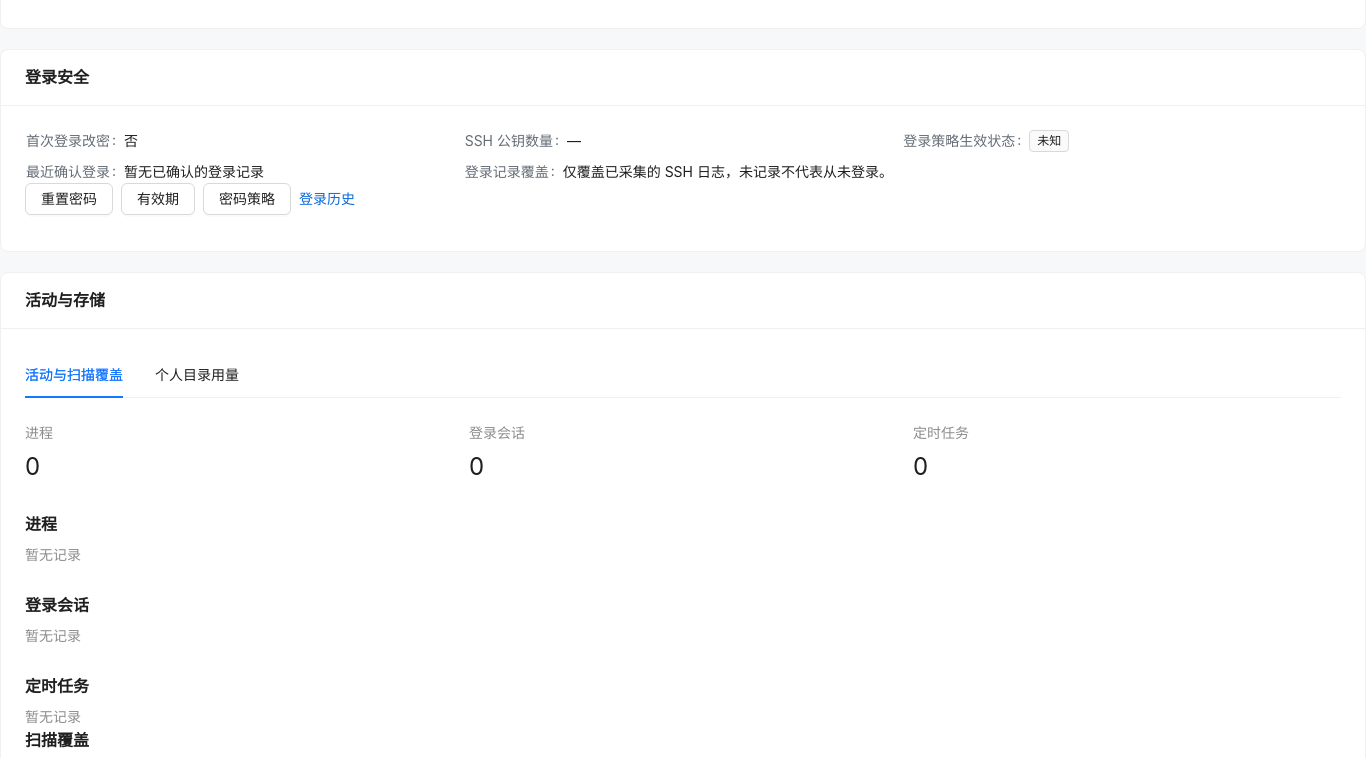
account retains directory usage without quota controls or requests
(page scrolled)
Expected: the text "登录安全" is shown, [25,67,89,87]
Click the tab "个人目录用量" at (197, 375), box [155,364,239,386]
(page scrolled)
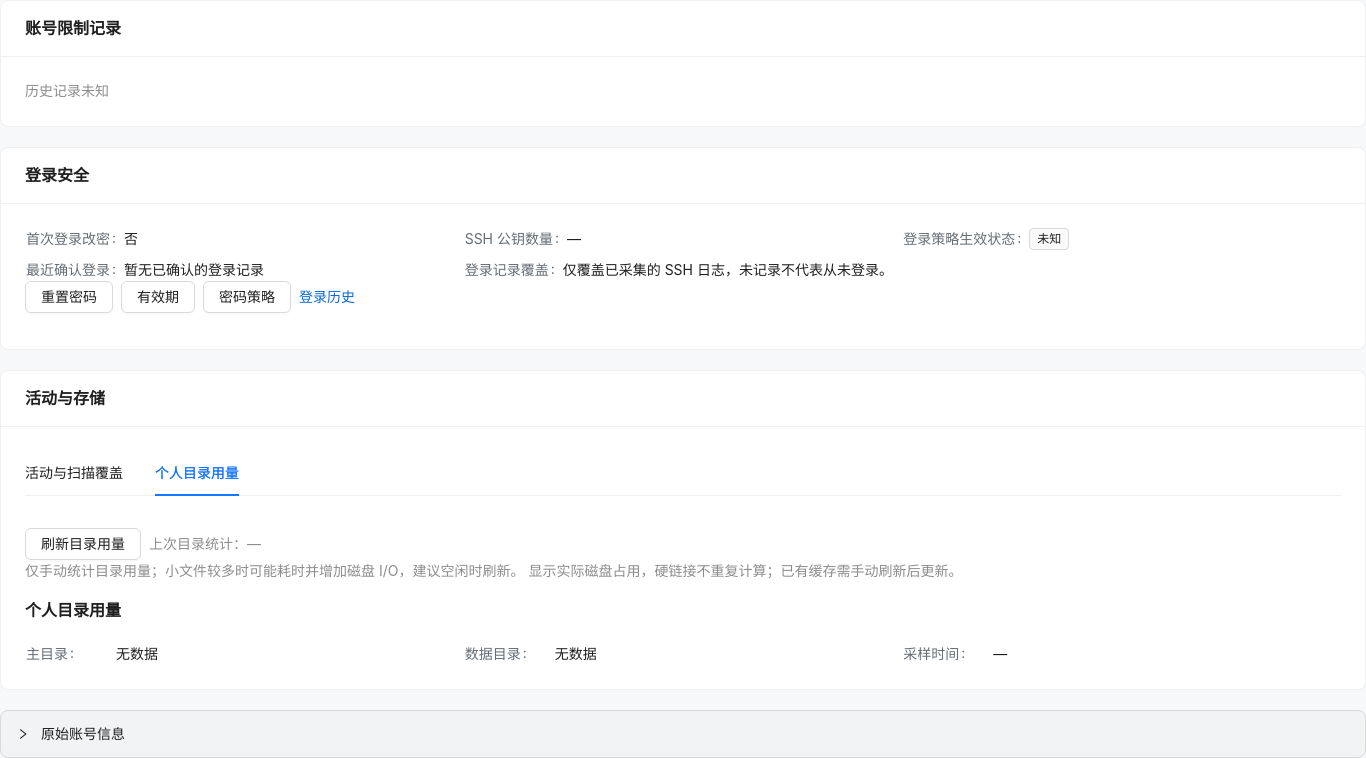
Now the text "采样时间" is shown, box [903,643,993,665]
